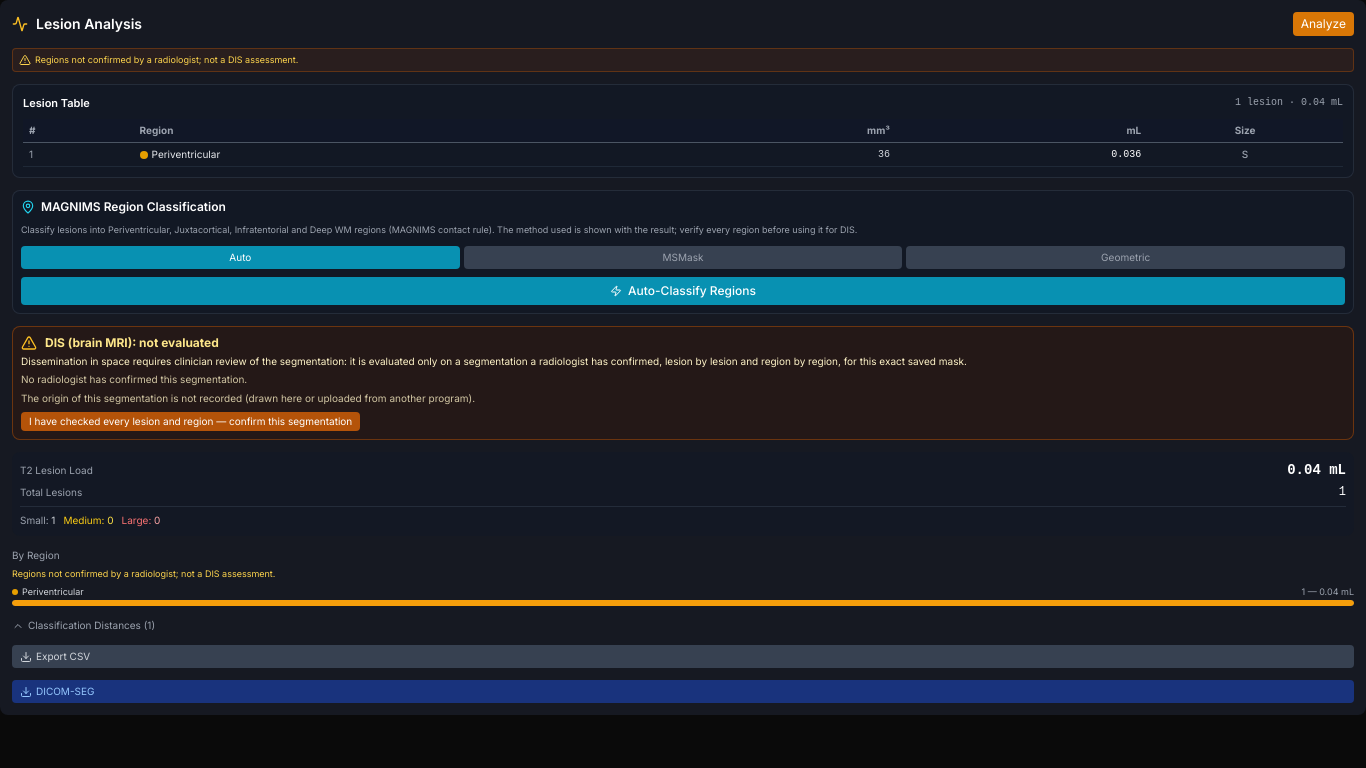
Test: merge of #69 and #71: a segmentation classified before #71 › rc071 release 1030 a table in colours the viewer does not draw is refused
The image size is (1366, 768).
What coordinates should you click on to do the following:
click the button "confirm this segmentation"
I would click on:
 (191, 422)
Its box is [21, 412, 360, 431].
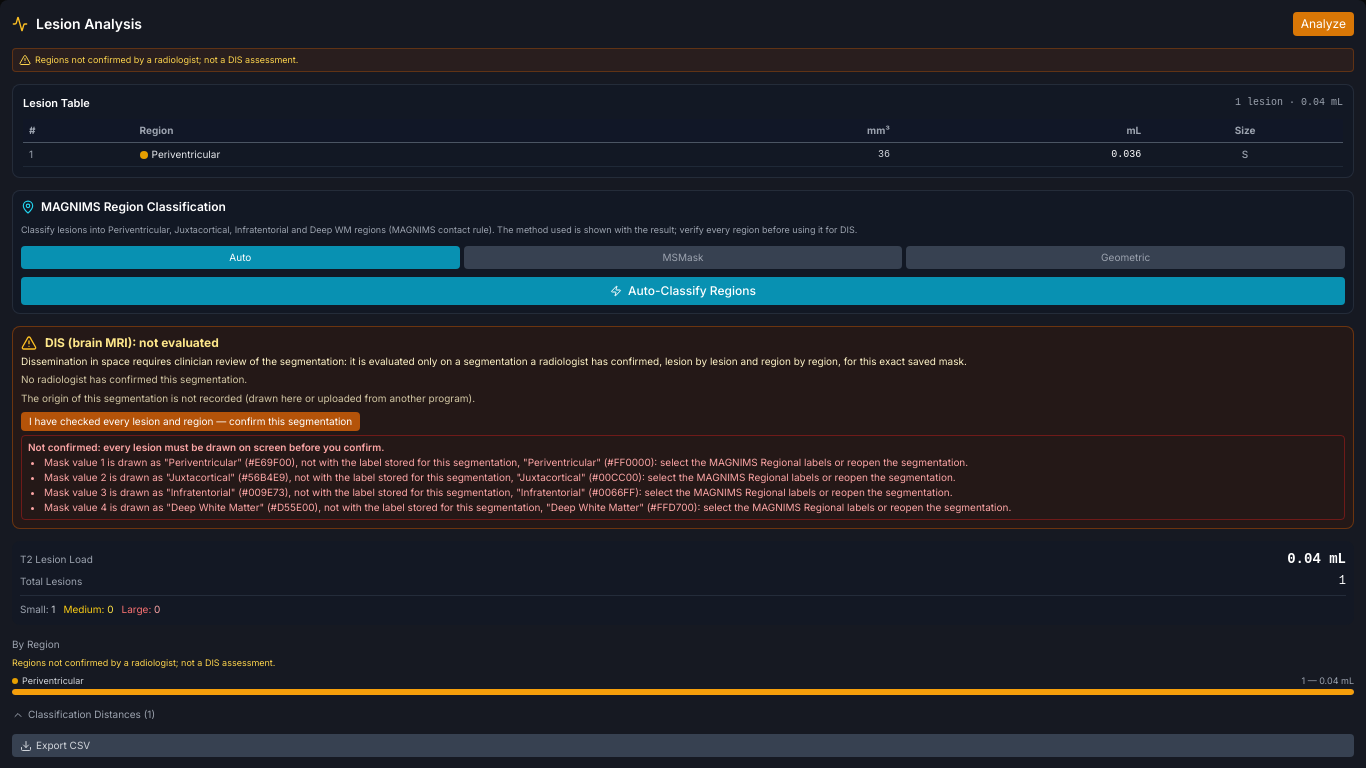
Expected: the message with test id "dis-confirm-refused" shows "value 1 is drawn as \"Periventricular\"", [44, 456, 968, 468]
